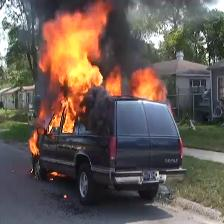fire: (38, 0, 112, 133), (128, 67, 168, 104), (104, 66, 122, 96), (29, 131, 39, 156)
